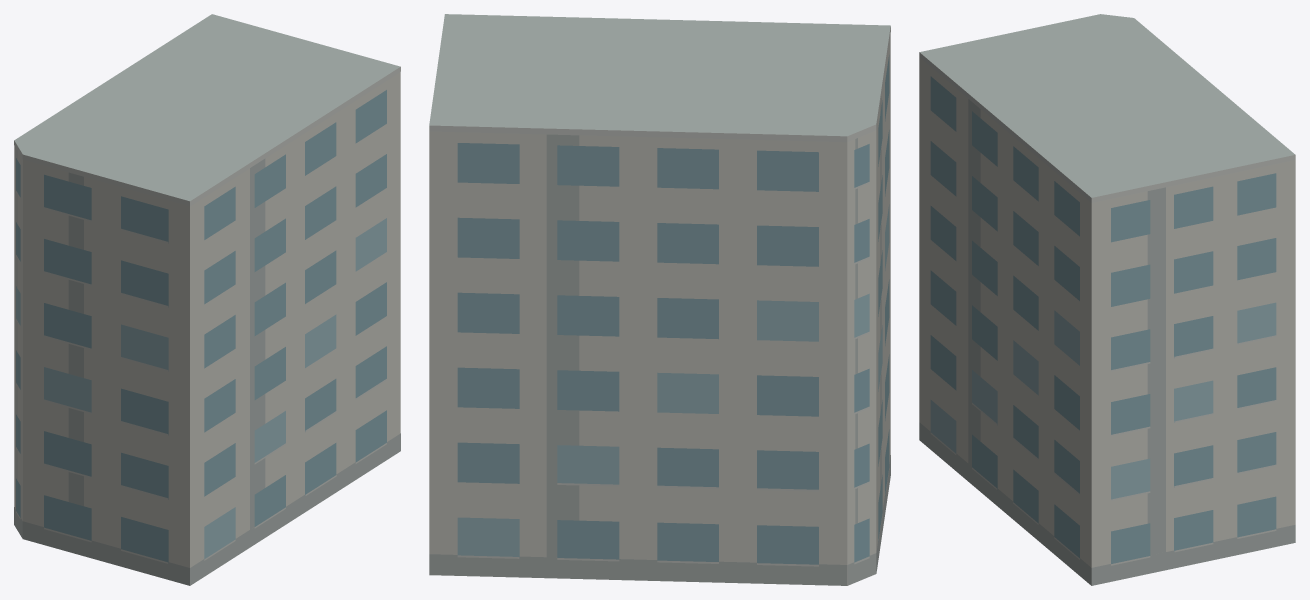
The model's file is survey-upis-33035853.glb.
The picture shows the model from 3 angles, left to right: view 1: azimuth 30°, elevation 25°; view 2: azimuth 150°, elevation 25°; view 3: azimuth 270°, elevation 25°; orthographic projection. The views are drawn at different scales.
Parts seen in each view (by area): view 1: survey-upis-33035853.tmp; view 2: survey-upis-33035853.tmp; view 3: survey-upis-33035853.tmp.
Part boxes in pixels (bbox=[...]): survey-upis-33035853.tmp: bbox=[14, 14, 400, 585]; survey-upis-33035853.tmp: bbox=[429, 14, 890, 585]; survey-upis-33035853.tmp: bbox=[919, 14, 1295, 585].
Bounding box in the file's own units: 18.61 × 18.3 × 16.09.
